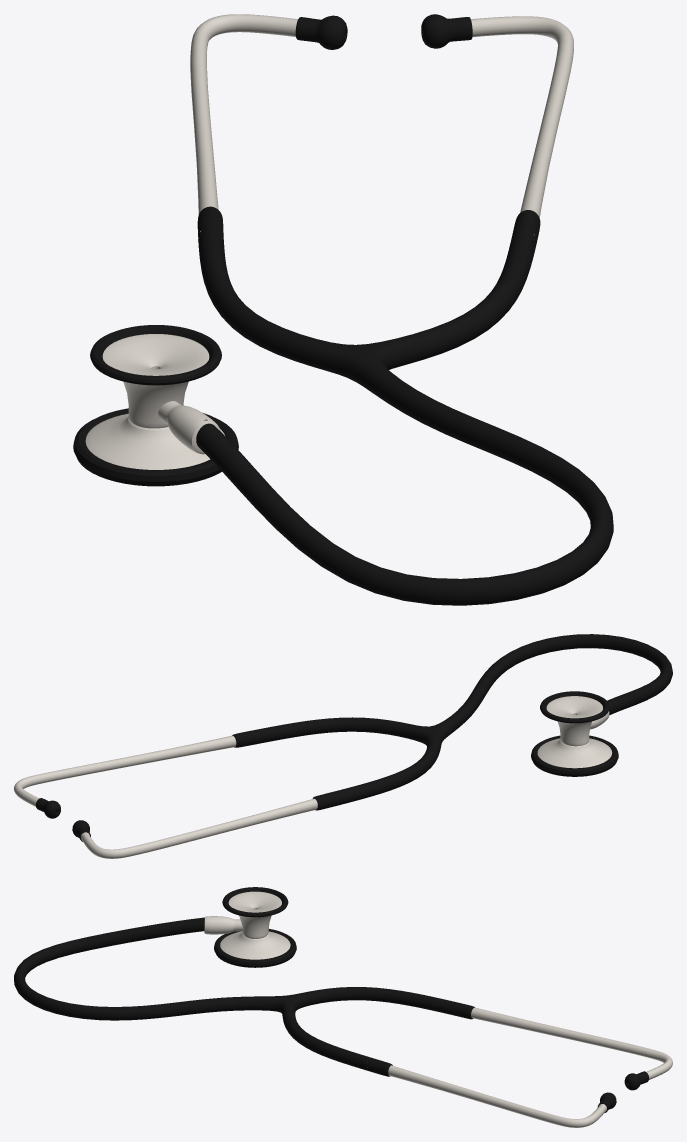
The model's file is ongnnghe.FBX.
3 renders of one model, top to bottom at view 1: azimuth 30°, elevation 25°; view 2: azimuth 150°, elevation 25°; view 3: azimuth 270°, elevation 25°, orthographic. The views are drawn at different scales.
Visible parts, largest first — view 1: ongnghe; view 2: ongnghe; view 3: ongnghe.
Part boxes in pixels (<box>): ongnghe: <box>73,14,613,605</box>; ongnghe: <box>14,634,672,858</box>; ongnghe: <box>14,887,672,1127</box>.
Size of the model in its own units: 9.74 by 1.26 by 13.84.
3 materials, 3 textured.
